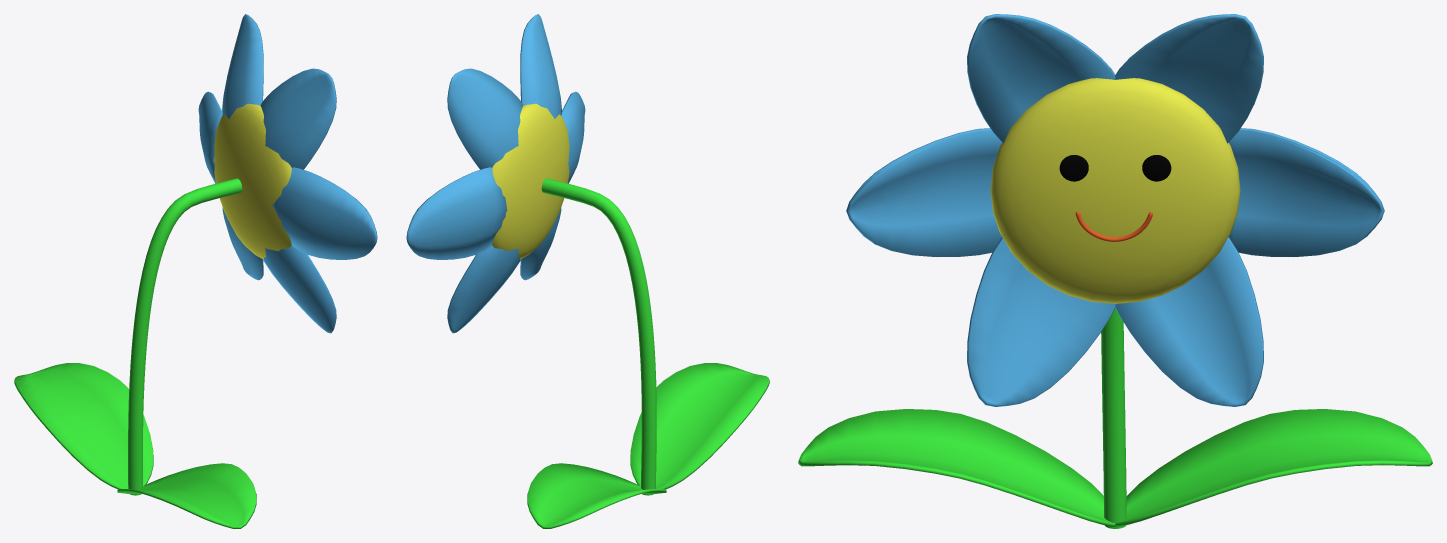
File: SPOILER_MopeMopeFlower.fbx
The picture shows the model from 3 angles, left to right: view 1: azimuth 30°, elevation 25°; view 2: azimuth 150°, elevation 25°; view 3: azimuth 270°, elevation 25°; orthographic projection. The views are drawn at different scales.
Visible parts, largest first — view 1: Flower; view 2: Flower; view 3: Flower.
Boxes of the visible parts, x1,y1,x2,y2 form: Flower: (14, 14, 377, 528); Flower: (406, 14, 769, 528); Flower: (798, 14, 1432, 528).
Bounding box in the file's own units: 44.78 × 87.72 × 80.94.
